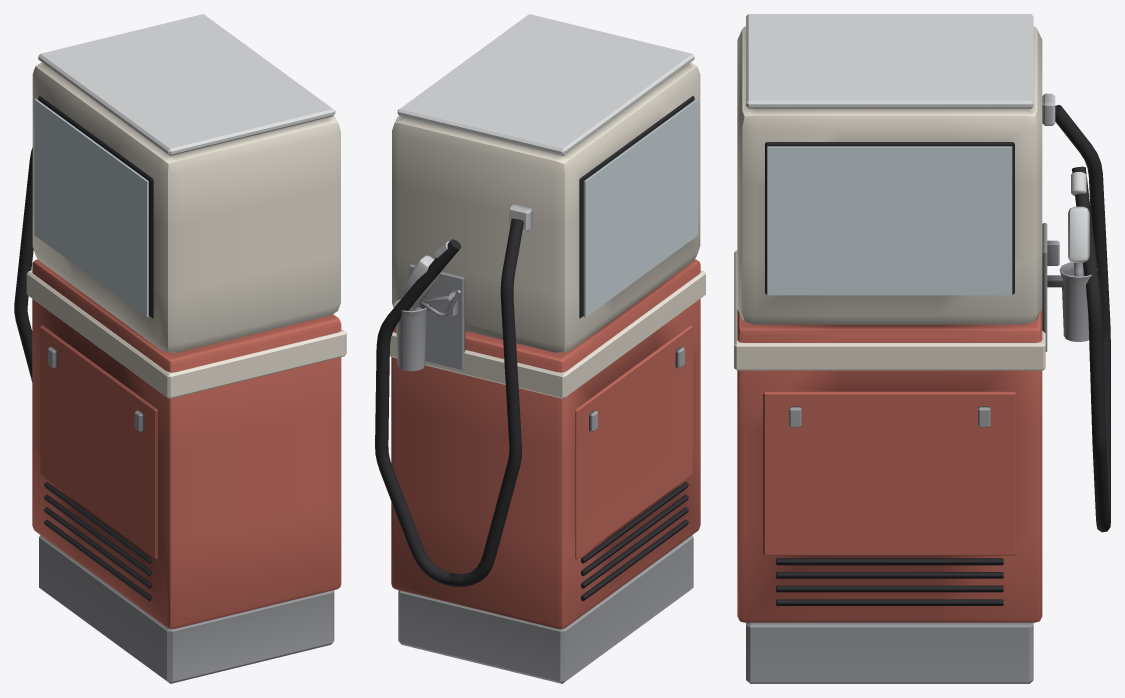
The model's file is pump.glb.
3 views of the same model, side by side, from view 1: azimuth 30°, elevation 25°; view 2: azimuth 150°, elevation 25°; view 3: azimuth 270°, elevation 25° (orthographic). The views are drawn at different scales.
Parts seen in each view (by area): view 1: PART, HOSE; view 2: PART, HOSE, NOZZLE; view 3: PART, HOSE, NOZZLE.
Boxes of the visible parts, x1,y1,x2,y2 form: PART: (26,14,346,683); HOSE: (14,147,33,381); PART: (389,14,705,683); HOSE: (375,218,523,586); NOZZLE: (401,241,460,316); PART: (734,14,1097,683); HOSE: (1055,104,1110,532); NOZZLE: (1068,172,1089,276).
Bounding box in the file's own units: 0.562 × 1.5 × 0.8771.
